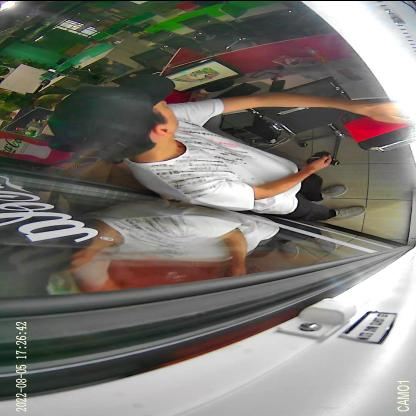red: (340, 111, 416, 151)
